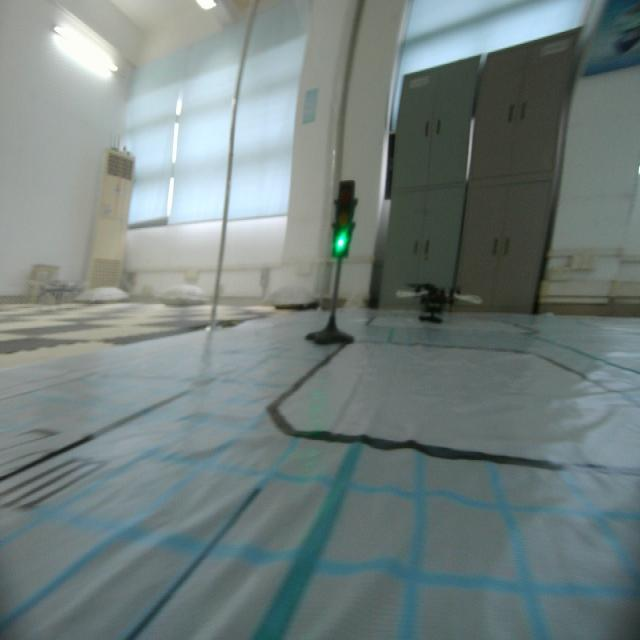green: (329, 178, 355, 262)
